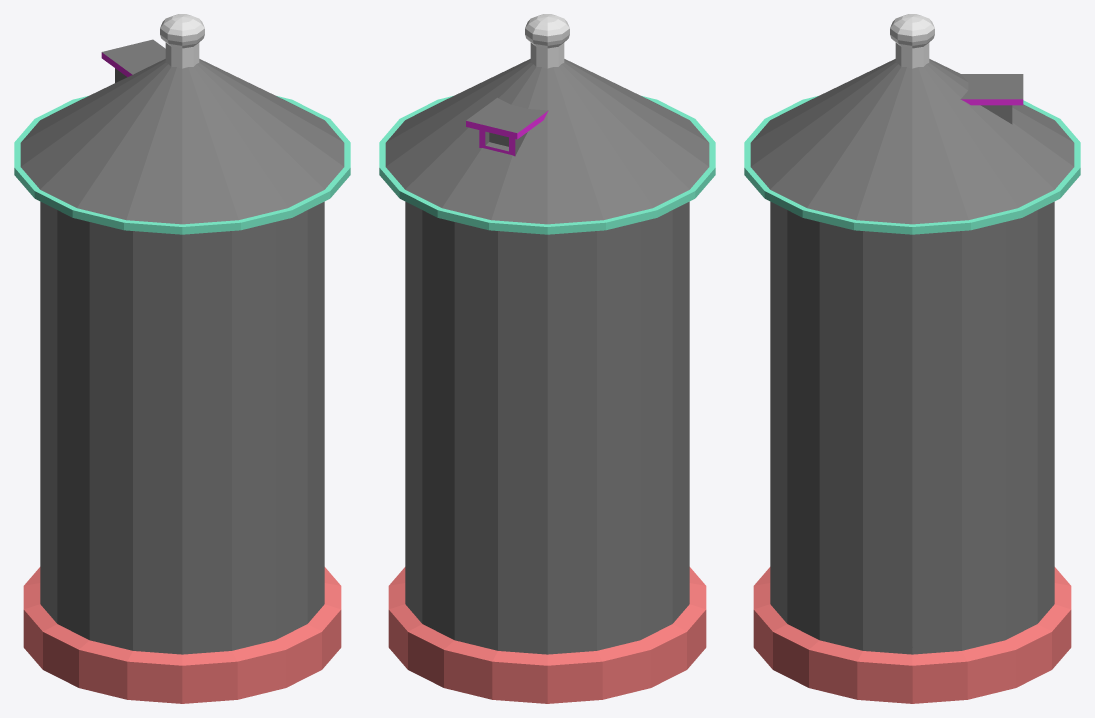
Rendered from Barn2.fbx.
3 views of the same model, side by side, from view 1: azimuth 30°, elevation 25°; view 2: azimuth 150°, elevation 25°; view 3: azimuth 270°, elevation 25° (orthographic).
Visible parts, largest first — view 1: Cylinder019, Object005, Cylinder020, Box040; view 2: Cylinder019, Object005, Box040, Cylinder020; view 3: Cylinder019, Object005, Box040, Cylinder020.
Boxes of the visible parts, bbox=[...] form: Cylinder019: bbox=[23, 201, 341, 703]; Object005: bbox=[14, 59, 350, 234]; Cylinder020: bbox=[160, 14, 204, 68]; Box040: bbox=[101, 39, 165, 82]; Cylinder019: bbox=[388, 201, 706, 703]; Object005: bbox=[379, 59, 715, 234]; Box040: bbox=[466, 97, 548, 156]; Cylinder020: bbox=[525, 14, 569, 68]; Cylinder019: bbox=[753, 201, 1071, 703]; Object005: bbox=[744, 59, 1080, 234]; Box040: bbox=[960, 74, 1023, 124]; Cylinder020: bbox=[890, 14, 934, 68].
Size of the model in its own units: 92.57 by 185 by 91.16.
